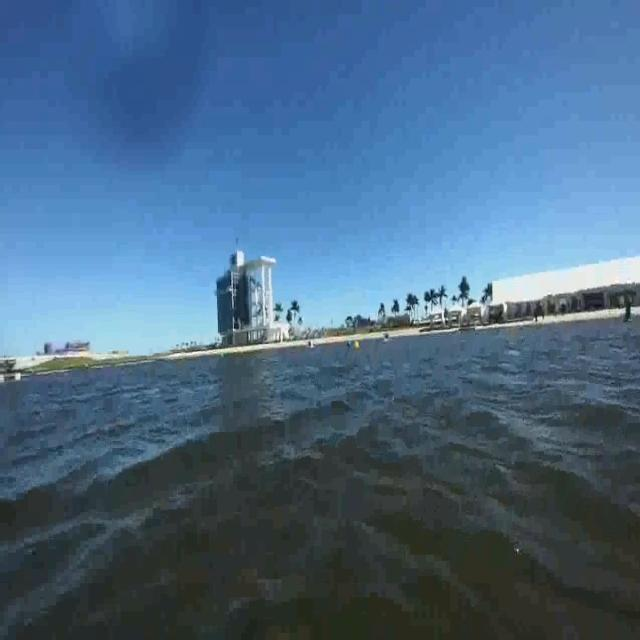green-column-buoy: (623, 298, 634, 318)
yellow-buoy: (354, 341, 361, 352)
